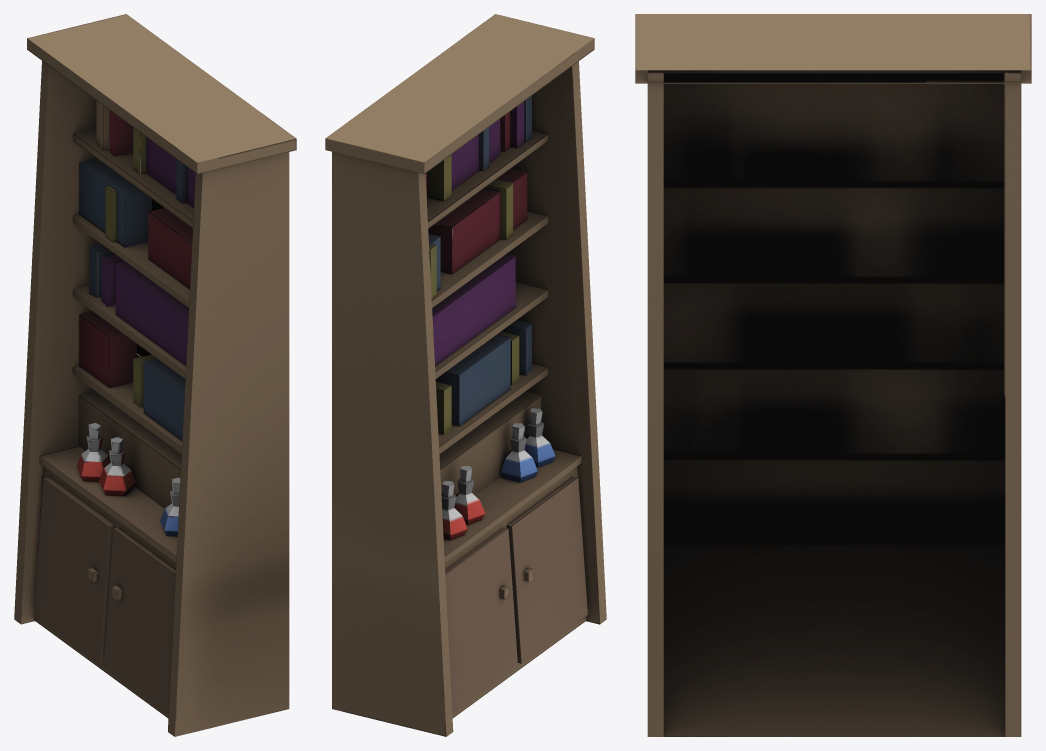
Rendered from obj_book_case_b7e25d.glb.
3 views of the same model, side by side, from view 1: azimuth 30°, elevation 25°; view 2: azimuth 150°, elevation 25°; view 3: azimuth 270°, elevation 25° (orthographic). The views are drawn at different scales.
Parts seen in each view (by area): view 1: obj_book_case_b7e25d; view 2: obj_book_case_b7e25d; view 3: obj_book_case_b7e25d.
Part boxes in pixels (x1,y1,x2,y2): obj_book_case_b7e25d: [14, 14, 296, 736]; obj_book_case_b7e25d: [325, 14, 606, 736]; obj_book_case_b7e25d: [635, 14, 1031, 736].
Bounding box in the file's own units: 0.2131 × 1 × 0.5383.
1 material, 1 textured.
